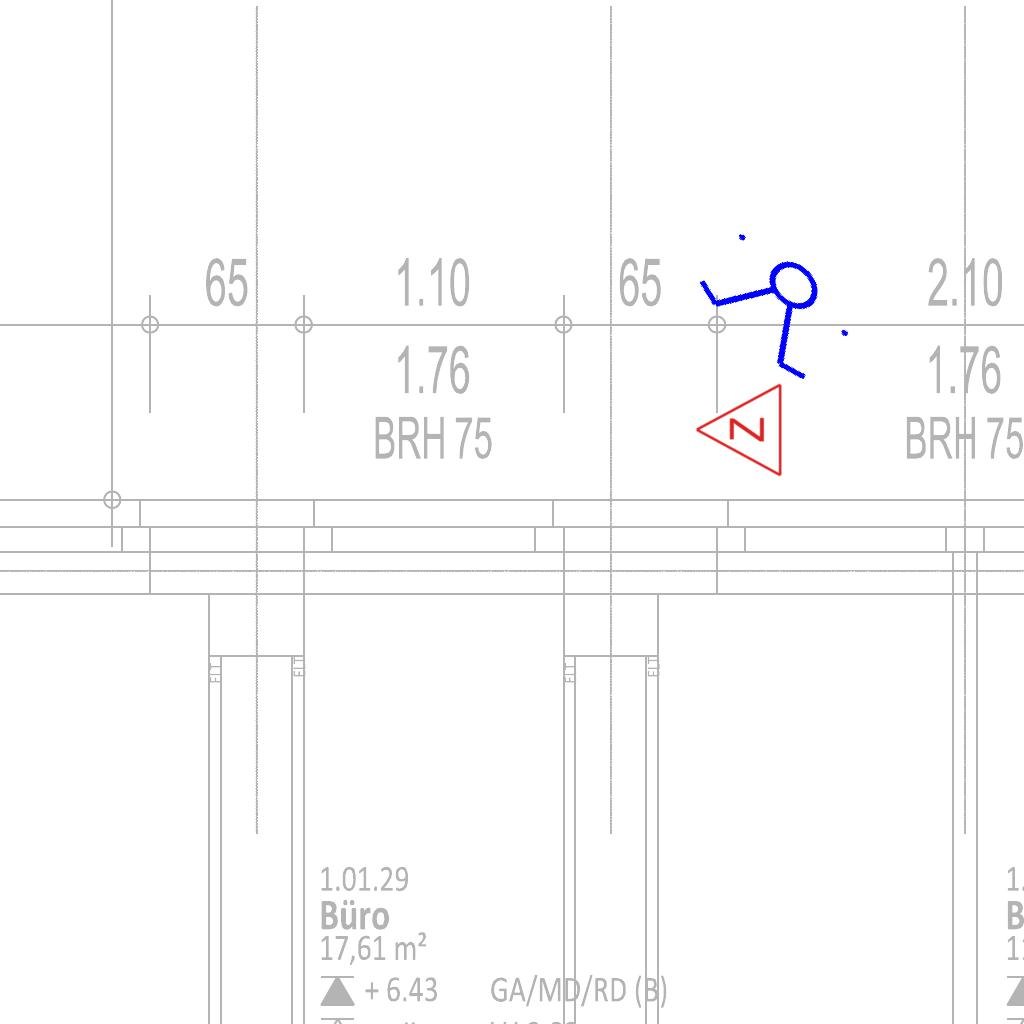Serienschalter: (682, 212, 872, 398)
Zimmersignalleuchte: (689, 382, 789, 480)
